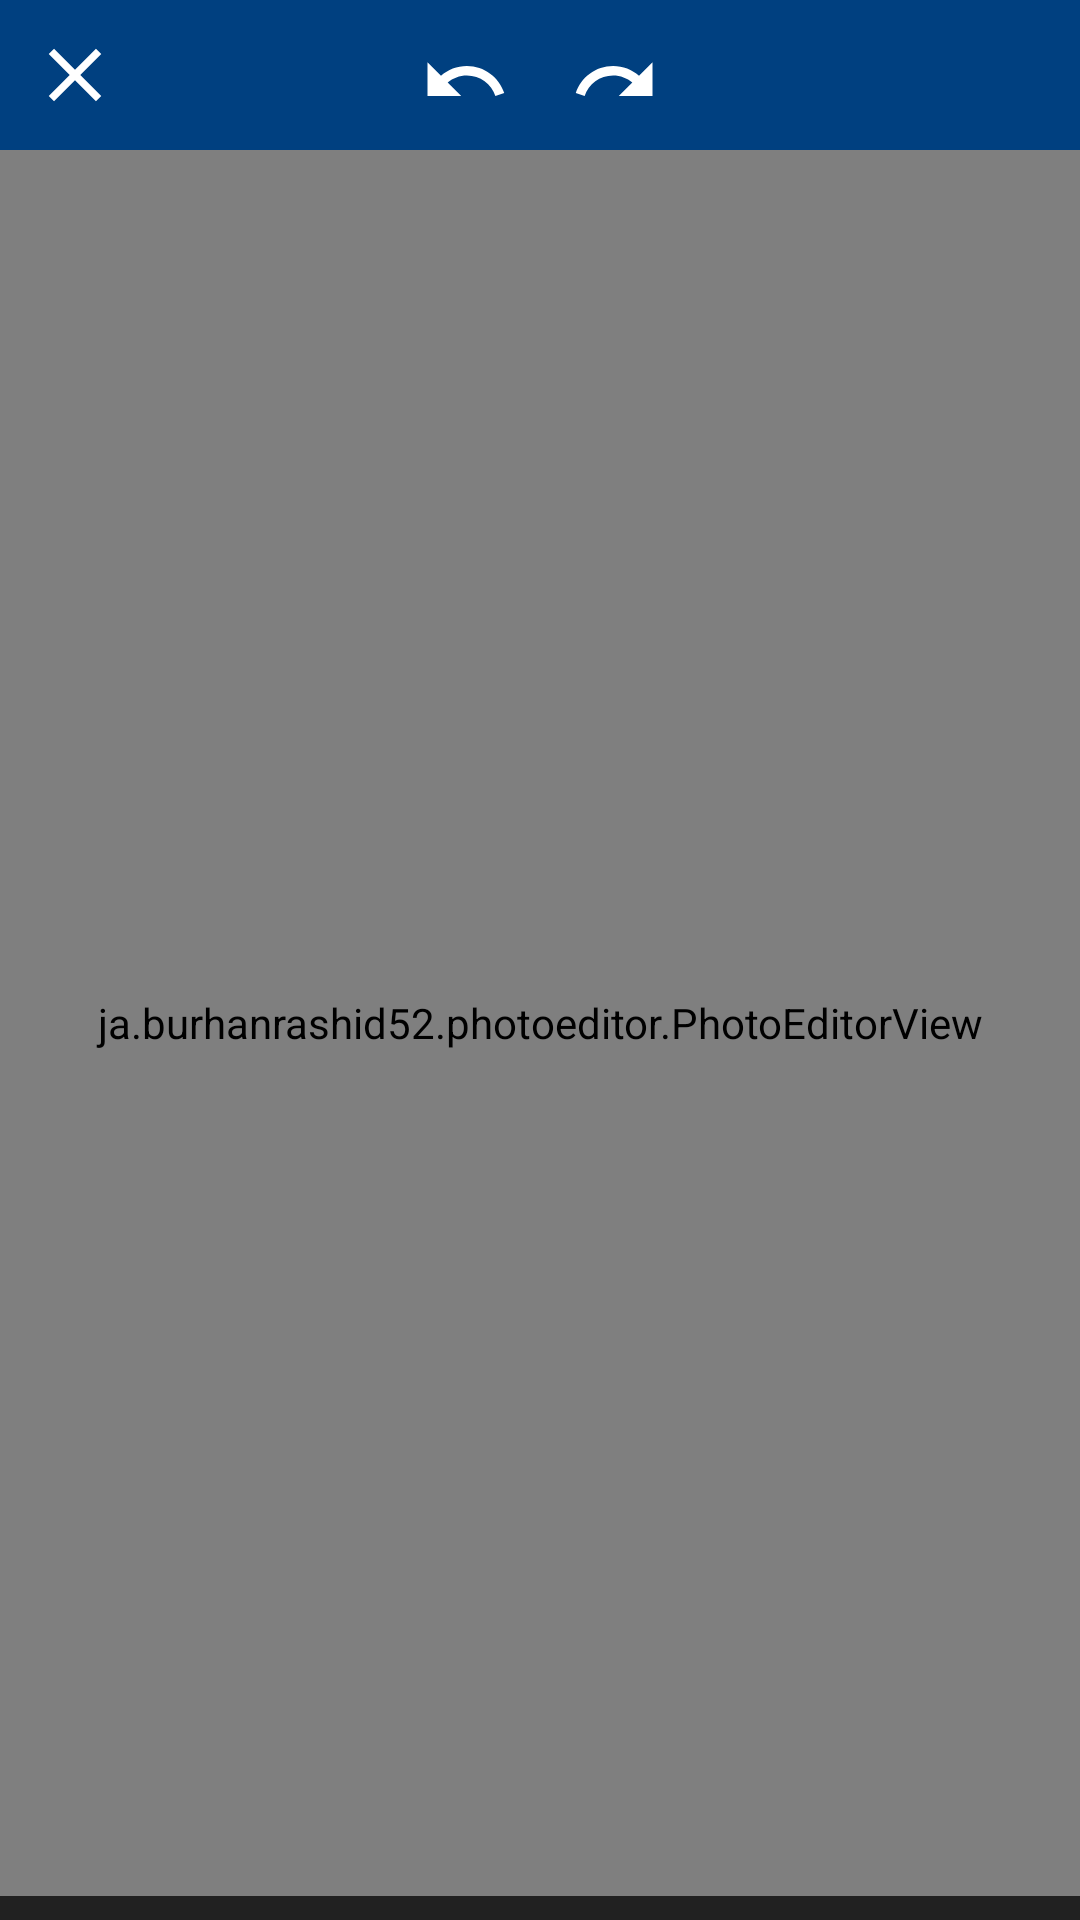

Screen size 1080x1920. Icon name, then its box in pixels as [x1=x1, y1=y1, x2=x2, y2=y2]:
close: [x1=49, y1=49, x2=101, y2=101]
redo: [x1=576, y1=62, x2=653, y2=96]
undo: [x1=427, y1=62, x2=504, y2=96]
